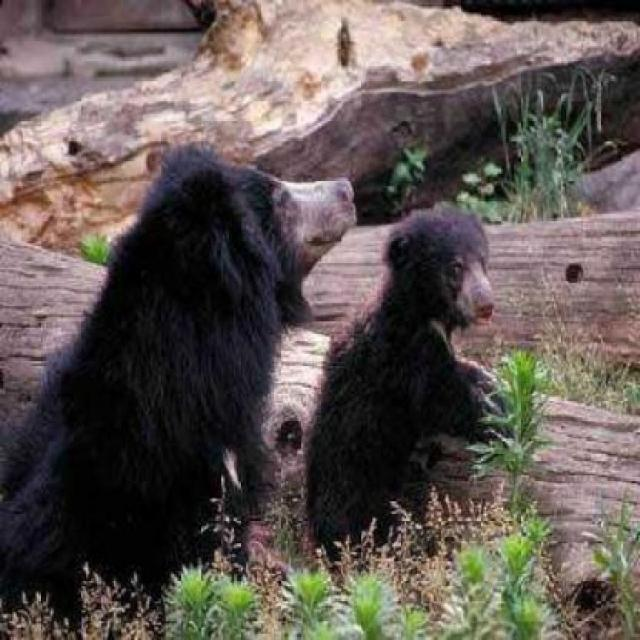Bear: (76, 128, 381, 606), (322, 185, 522, 557)
